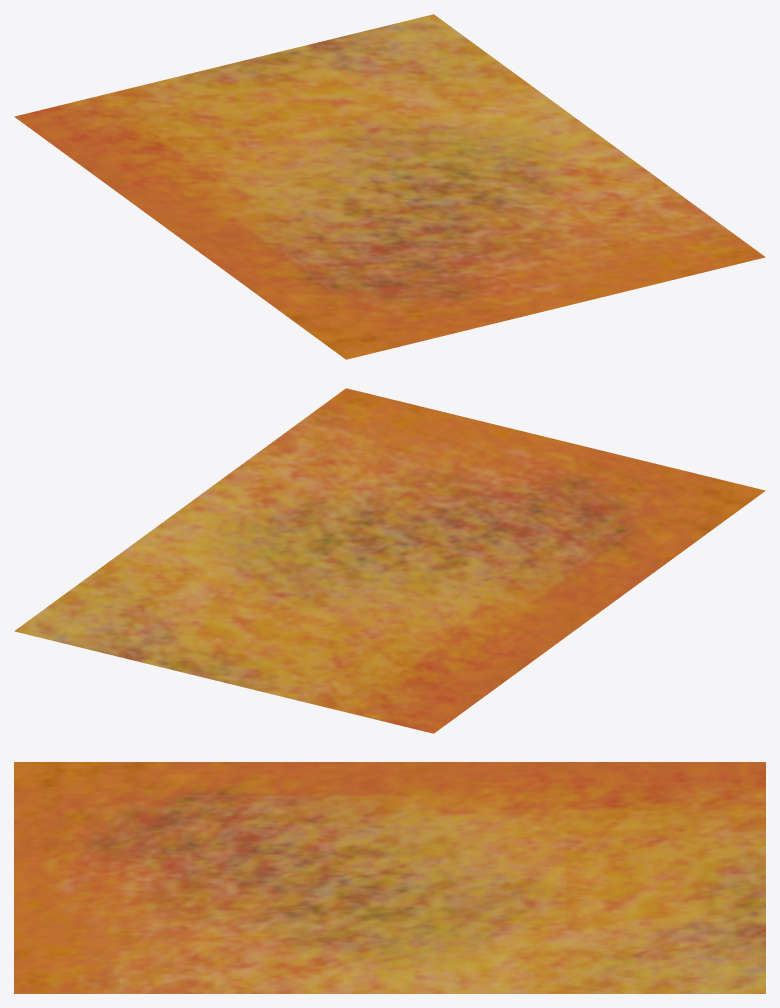
The model's file is Lava Ground - Level 1.FBX.
The picture shows the model from 3 angles, top to bottom: view 1: azimuth 30°, elevation 25°; view 2: azimuth 150°, elevation 25°; view 3: azimuth 270°, elevation 25°; orthographic projection. The views are drawn at different scales.
Visible parts, largest first — view 1: Lava Ground; view 2: Lava Ground; view 3: Lava Ground.
Boxes of the visible parts, x1,y1,x2,y2 form: Lava Ground: (14,14,765,359); Lava Ground: (14,388,765,733); Lava Ground: (14,762,765,993).
Bounding box in the file's own units: 445 × 3.31 × 610.
1 material, 1 textured.
